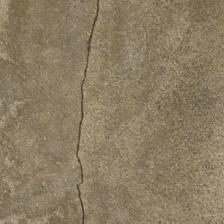Crack: (36, 2, 71, 222)
